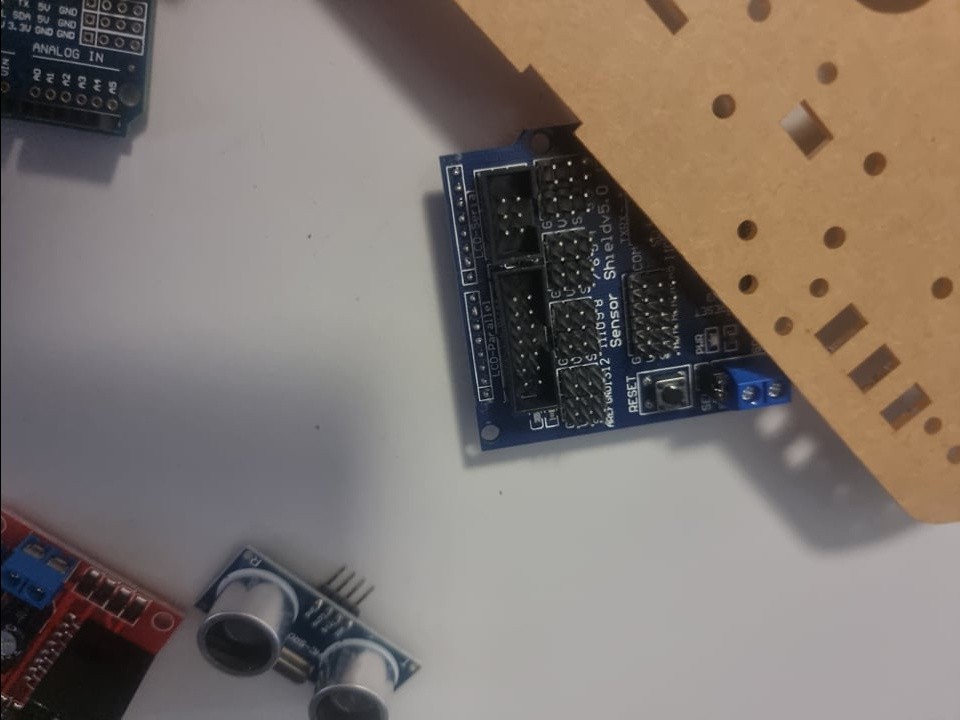5V EXPANSION: (434, 112, 800, 468)
MOTOR: (0, 503, 177, 720)
SENSOR: (196, 547, 426, 720)
